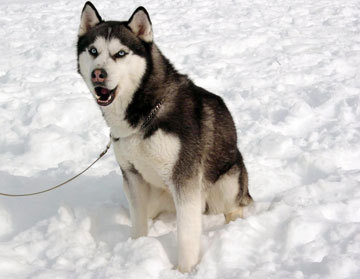dog: (66, 1, 256, 270)
